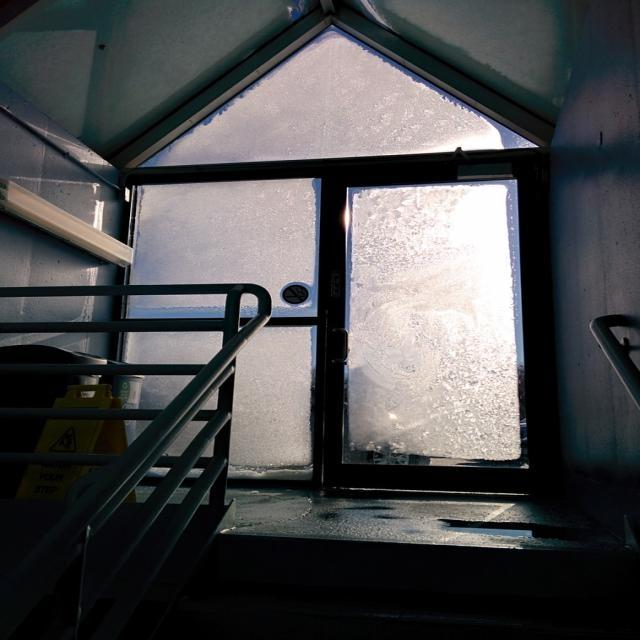door: (316, 167, 547, 482)
